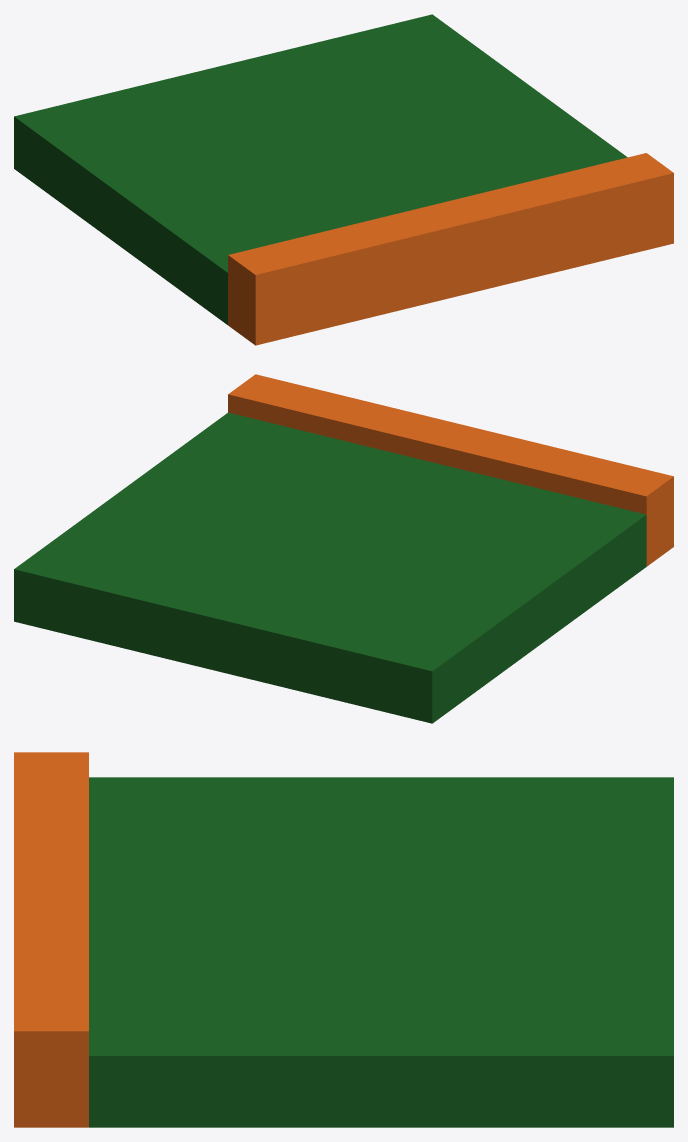
Rendered from MOD_SolherbesideA.FBX.
The picture shows the model from 3 angles, top to bottom: view 1: azimuth 30°, elevation 25°; view 2: azimuth 150°, elevation 25°; view 3: azimuth 270°, elevation 25°; orthographic projection. The views are drawn at different scales.
Parts seen in each view (by area): view 1: MOD_terrain herbeB; view 2: MOD_terrain herbeB; view 3: MOD_terrain herbeB.
Part boxes in pixels (bbox=[...]): MOD_terrain herbeB: bbox=[14, 14, 673, 345]; MOD_terrain herbeB: bbox=[14, 374, 673, 723]; MOD_terrain herbeB: bbox=[14, 752, 673, 1127].
Bounding box in the file's own units: 1 × 0.1611 × 1.
